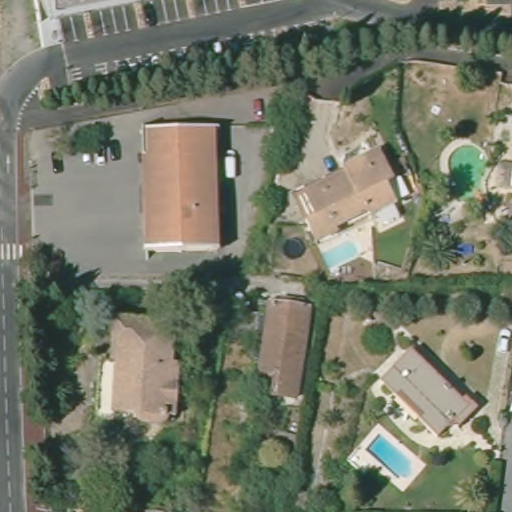pool: (362, 428, 421, 484), (442, 138, 492, 191), (318, 237, 360, 273)
